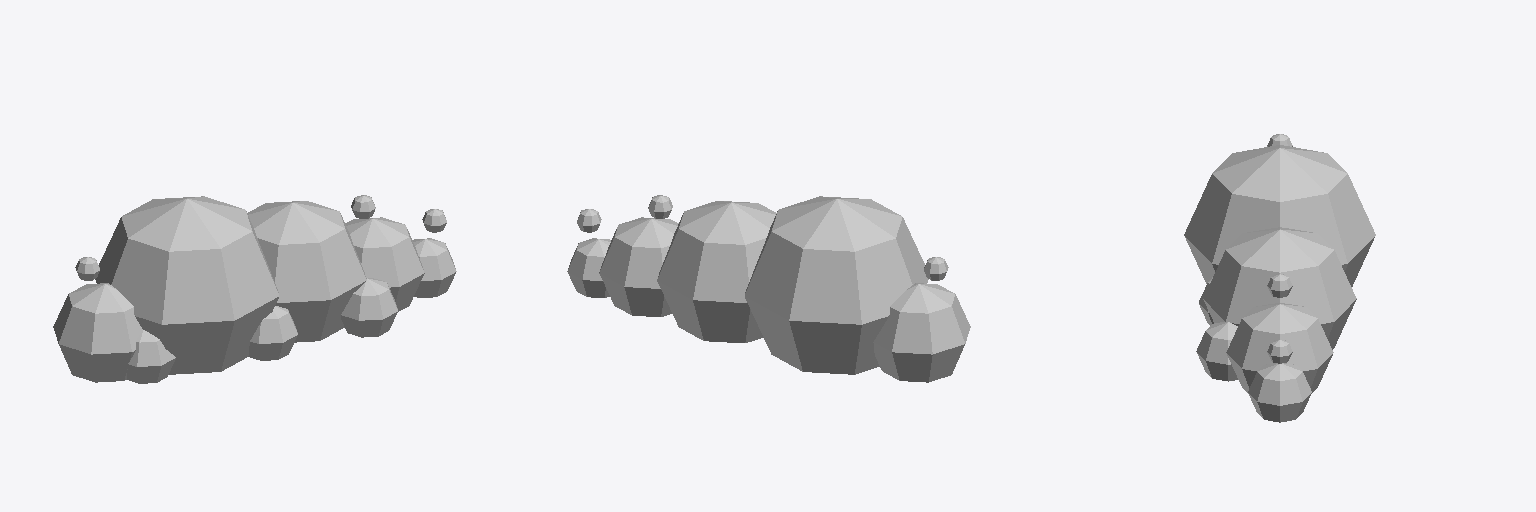
File: water_cycle_cloud_large.obj
3 renders of one model, left to right at view 1: azimuth 30°, elevation 25°; view 2: azimuth 150°, elevation 25°; view 3: azimuth 270°, elevation 25°, orthographic.
Parts seen in each view (by area): view 1: Sphere001; view 2: Sphere001; view 3: Sphere001.
Boxes of the visible parts, box(x1,y1,x2,y2) form: Sphere001: box(53, 195, 456, 383); Sphere001: box(567, 195, 970, 382); Sphere001: box(1184, 134, 1375, 422).
Bounding box in the file's own units: 11.32 × 4.07 × 4.77.